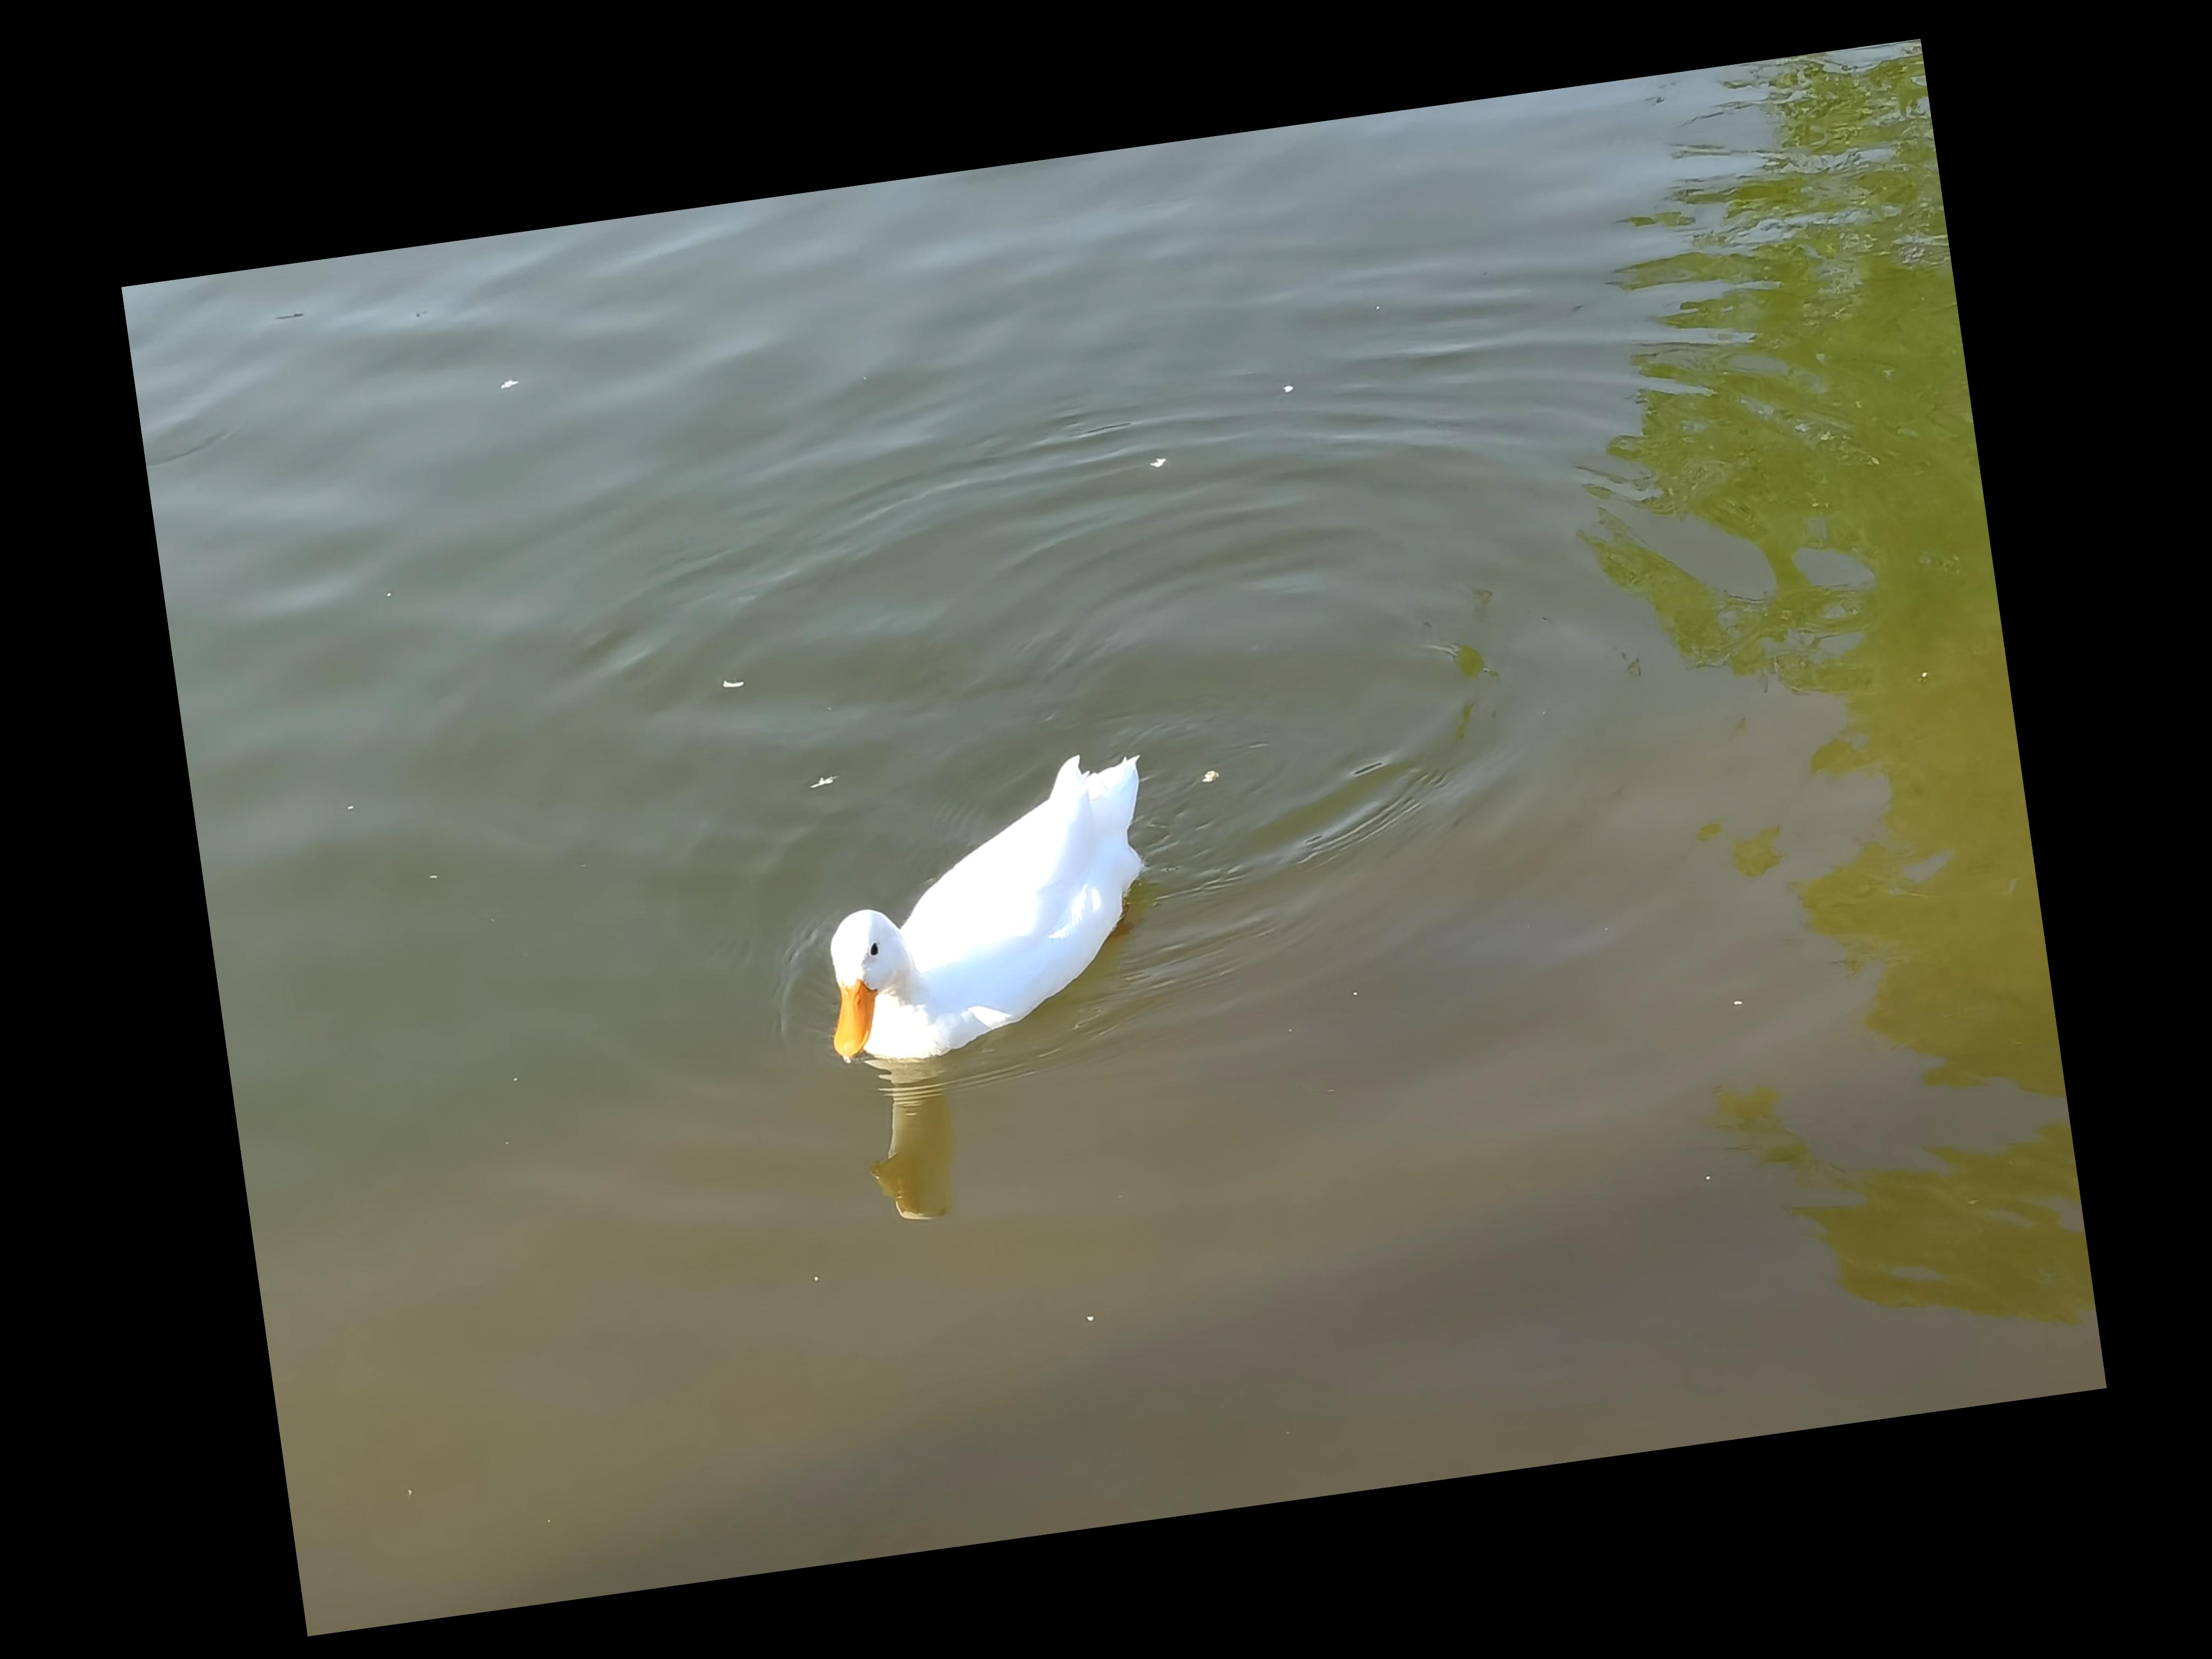duck: (763, 727, 1205, 1114)
